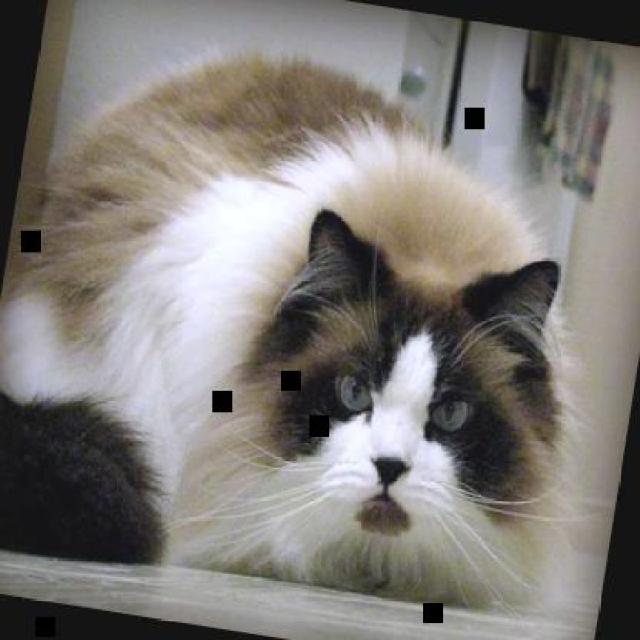cat: (0, 18, 626, 637)
